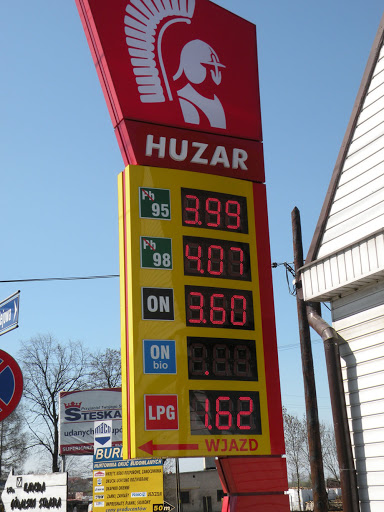LPG: (142, 393, 179, 431)
ON: (142, 338, 177, 374), (141, 286, 175, 320)
PB95: (139, 185, 173, 220)
PB98: (137, 234, 175, 271)
